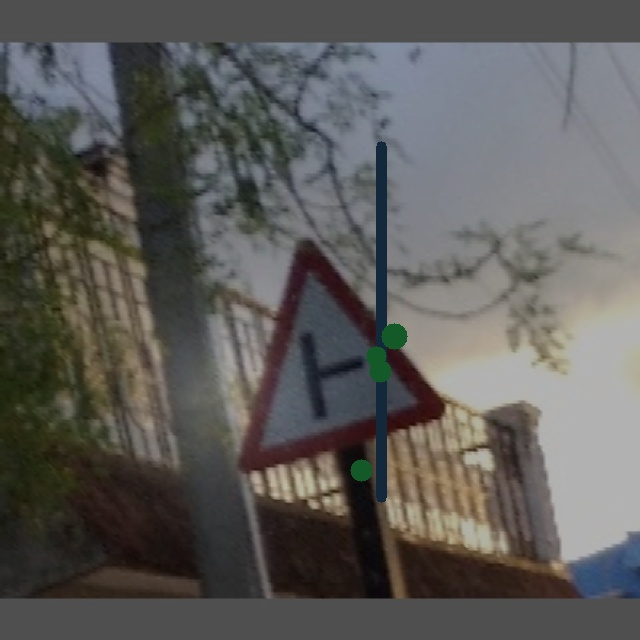Side_Road_Right: (224, 238, 431, 452)
